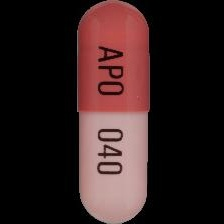50436-0146: (0, 0, 224, 224)
